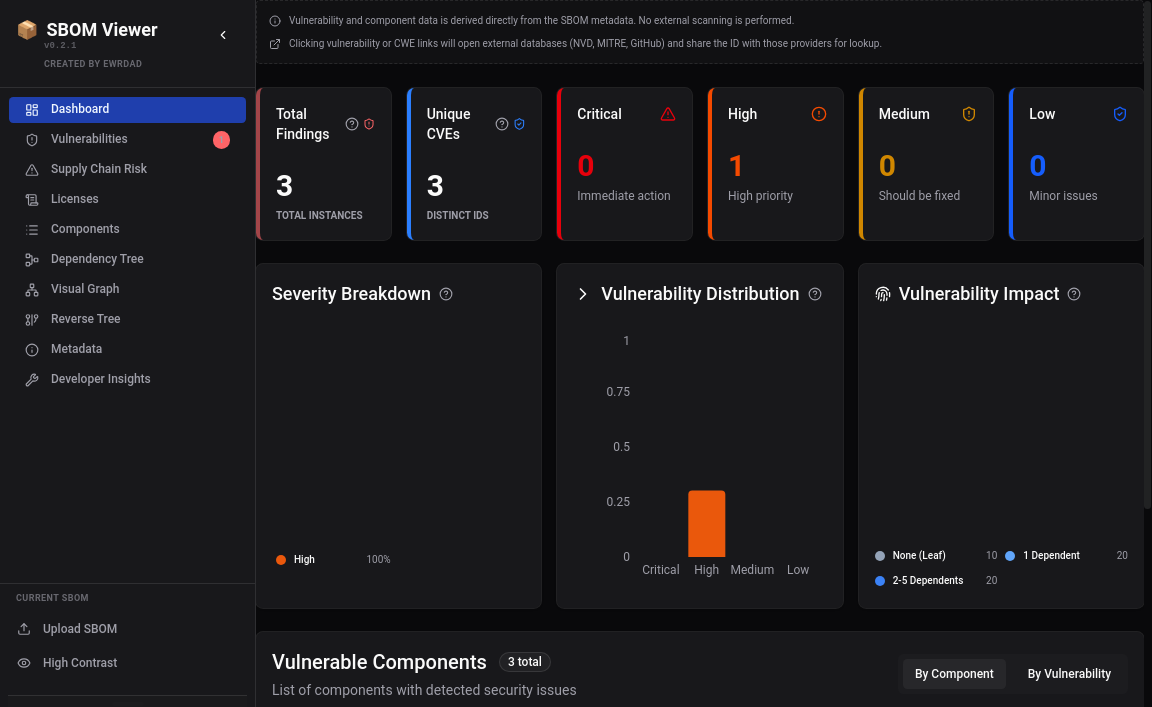
Test case: VulnerabilitiesView › should render comprehensive vulnerability details when selected
Click the button "By Vulnerability" at {"x": 1069, "y": 674}, box 1015,658 -> 1124,690
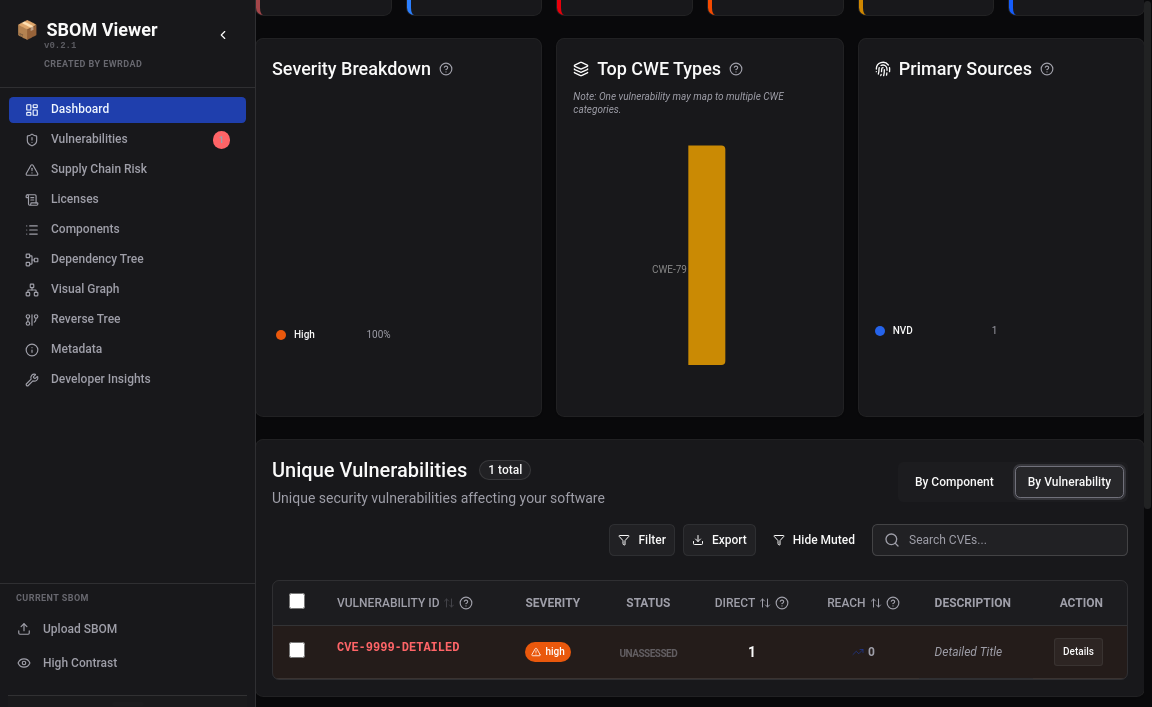
Click the button "Details" at {"x": 1079, "y": 652}, box 1054,638 -> 1103,666
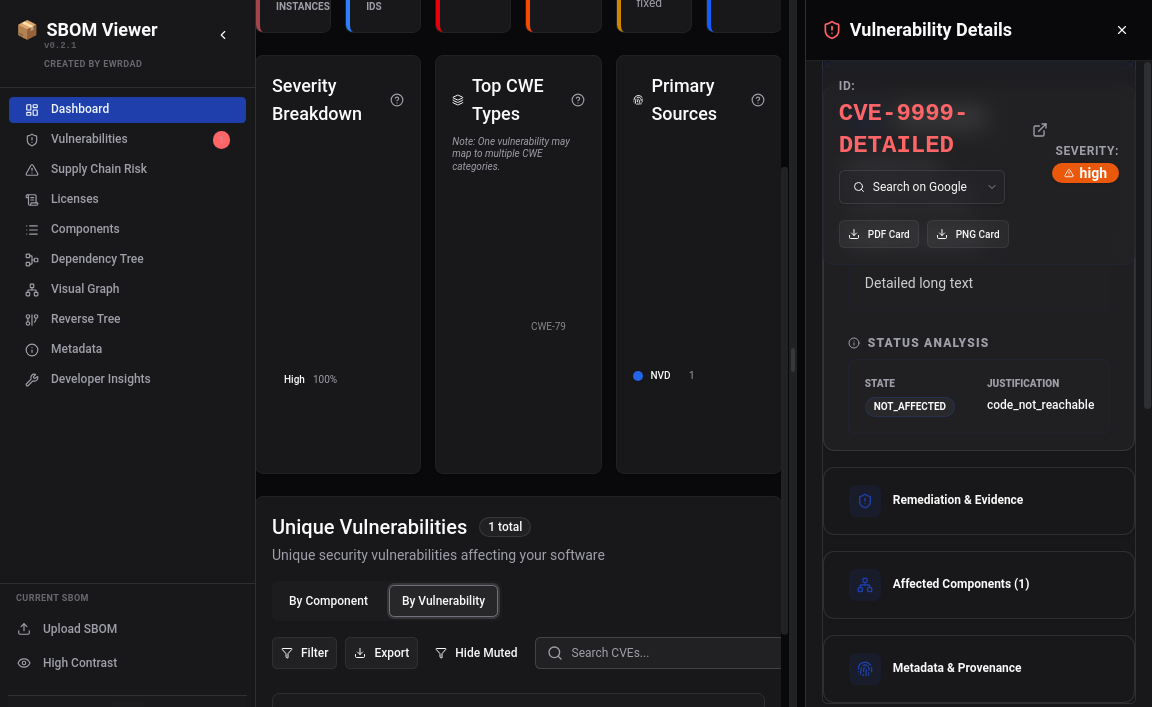
Expected: the heading "Vulnerability Details" is shown, 850,16 -> 1012,44
Expected: the text "Severity:" is shown, 1052,143 -> 1119,159
Expected: the text "ID:" is shown, 839,79 -> 855,93
Note: Open Remediation & Evidence
Click the button "Remediation & Evidence" at {"x": 979, "y": 501}, box 840,468 -> 1118,534
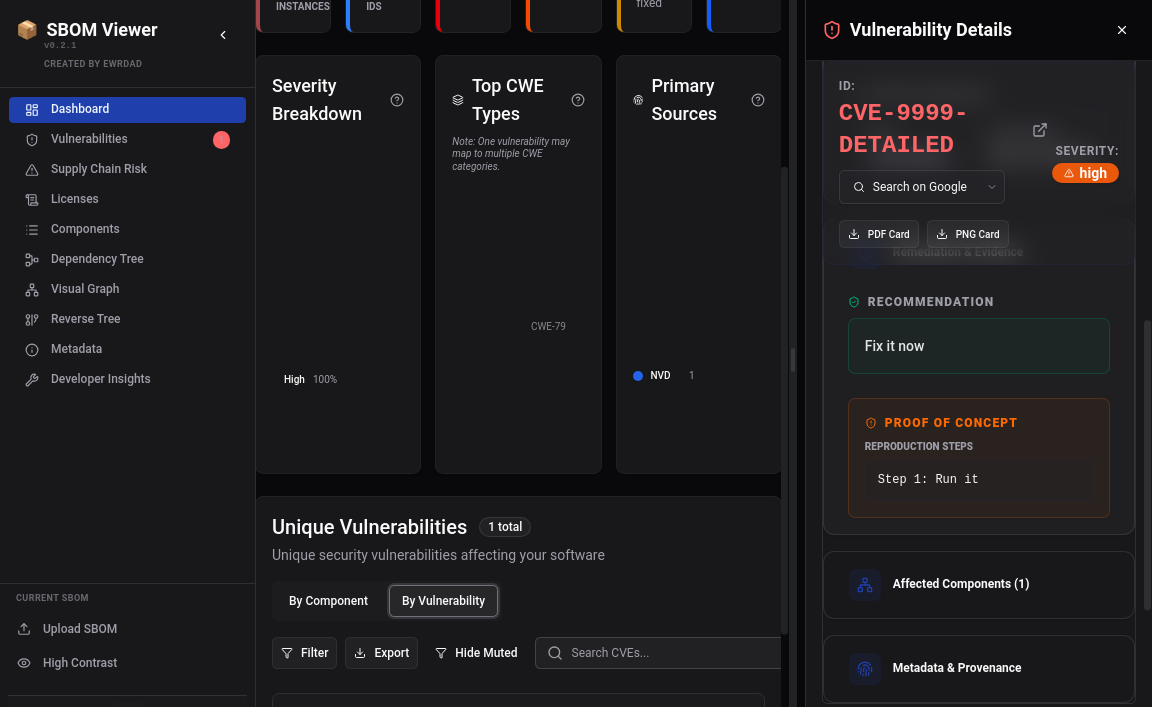
Expected: the text "Step 1: Run it" is shown, 865,460 -> 1093,501
Note: Open Metadata & Provenance
Click the button "Metadata & Provenance" at {"x": 979, "y": 669}, box 840,636 -> 1118,702
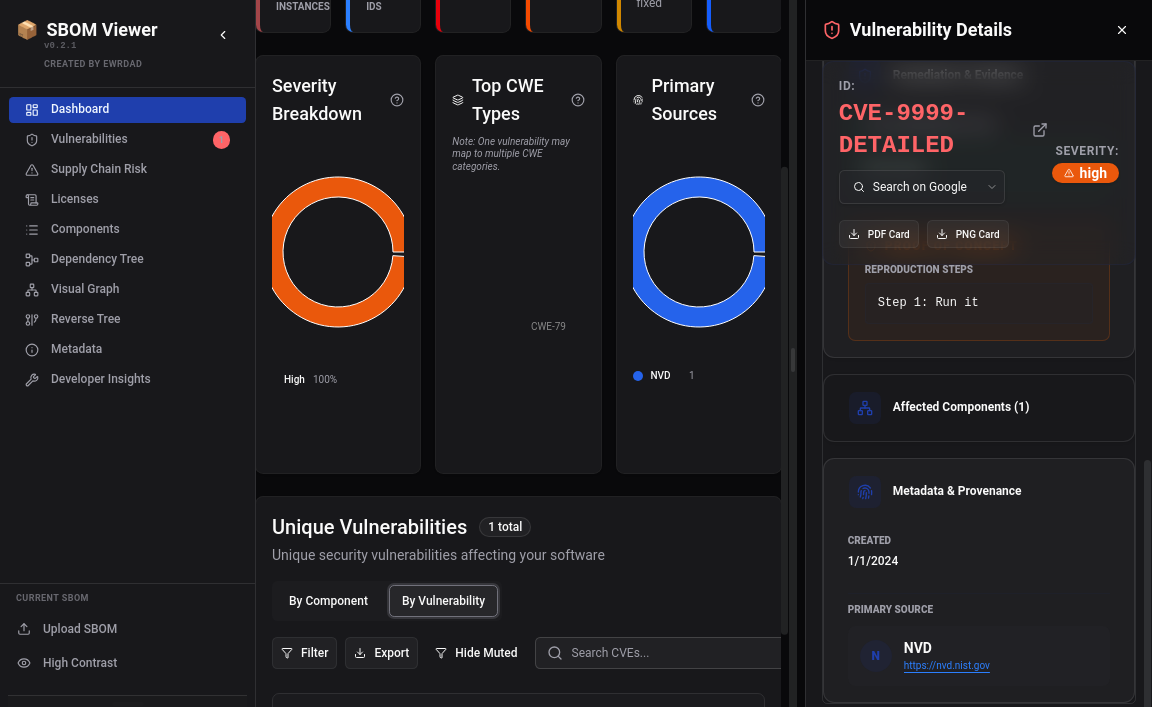
Expected: the text "Primary Source" is shown, 848,604 -> 933,615
